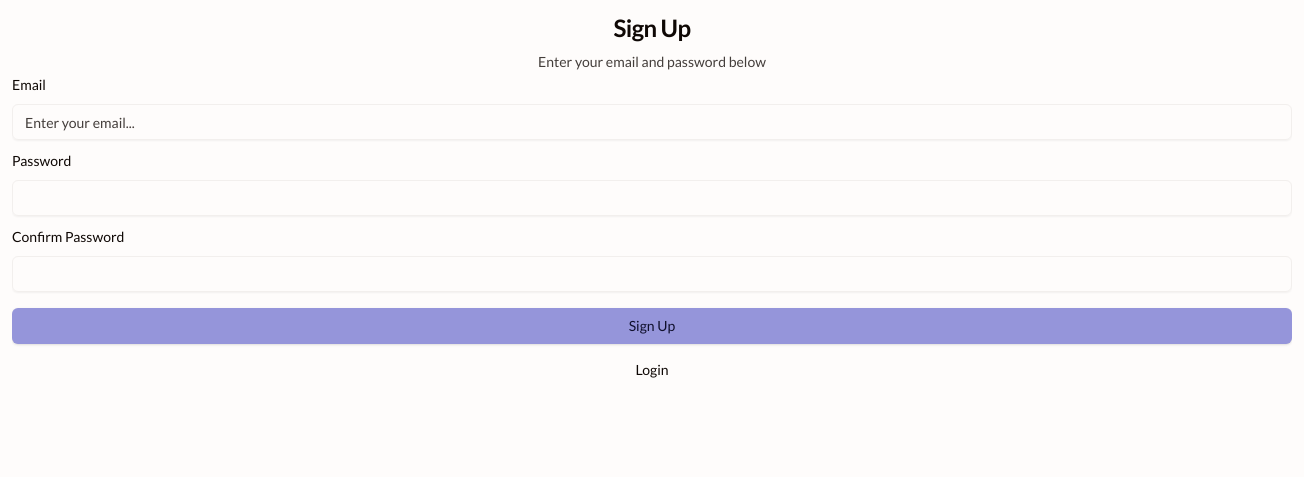
Test case: SignupForm › shows validation errors for invalid inputs
Click the button "Sign Up" at (652, 326), box 12,308 -> 1292,344
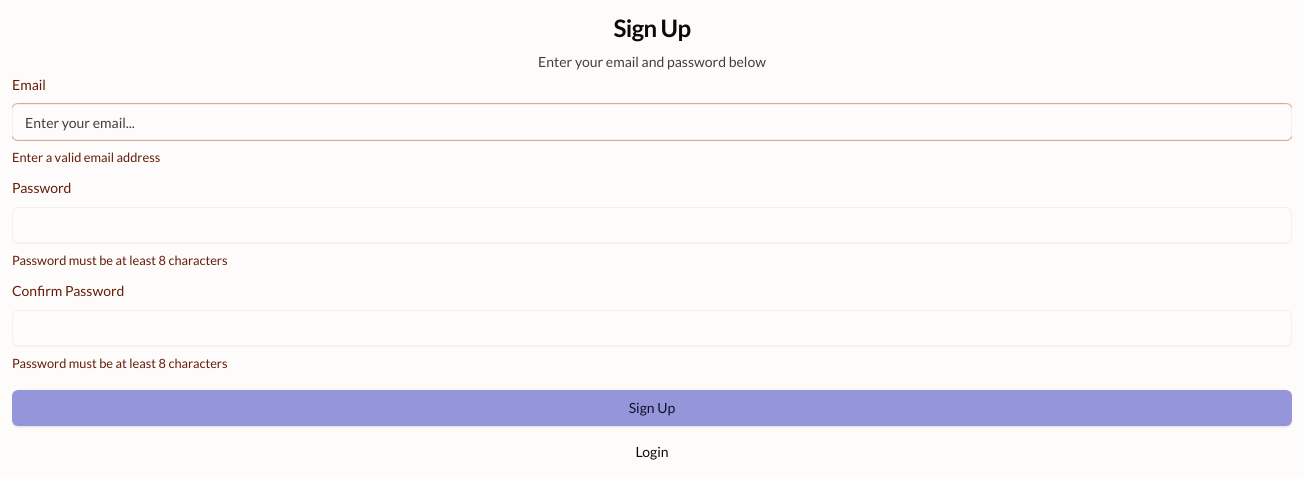
Now the text "Enter a valid email address" is shown, box 12,149 -> 160,165
Now the 1st text "Password must be at least 8 characters" is shown, box 12,252 -> 228,268
